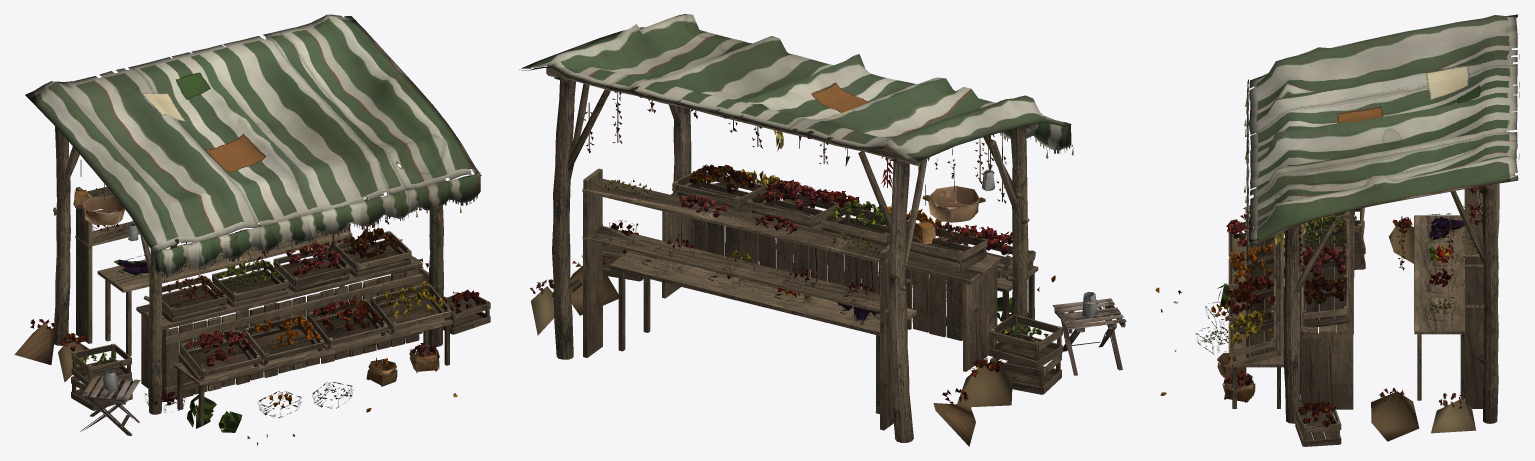
File: village-kiosk-4-v3-lite.glb
3 renders of one model, left to right at view 1: azimuth 30°, elevation 25°; view 2: azimuth 150°, elevation 25°; view 3: azimuth 270°, elevation 25°, orthographic. The views are drawn at different scales.
Parts seen in each view (by area): view 1: K4_Cloth, K4_Wood, K4_Props, K4_Bark, K4_Sack; view 2: K4_Wood, K4_Cloth, K4_Bark, K4_Props, K4_Sack; view 3: K4_Cloth, K4_Wood, K4_Props, K4_Bark, K4_Sack.
Part boxes in pixels (x1,y1,x2,y2): K4_Cloth: [25, 14, 481, 277]; K4_Wood: [71, 186, 490, 425]; K4_Props: [30, 160, 484, 445]; K4_Bark: [53, 126, 443, 414]; K4_Sack: [14, 267, 428, 382]; K4_Wood: [582, 168, 1062, 430]; K4_Cloth: [519, 14, 1072, 163]; K4_Bark: [546, 65, 1036, 442]; K4_Props: [530, 71, 1126, 404]; K4_Sack: [531, 266, 1012, 446]; K4_Cloth: [1246, 14, 1519, 263]; K4_Wood: [1228, 187, 1484, 446]; K4_Props: [1155, 99, 1483, 427]; K4_Bark: [1283, 183, 1499, 423]; K4_Sack: [1371, 220, 1476, 441].
Size of the model in its own units: 5.15 by 3.04 by 3.72.
Materials: 5 (5 with a texture image).
